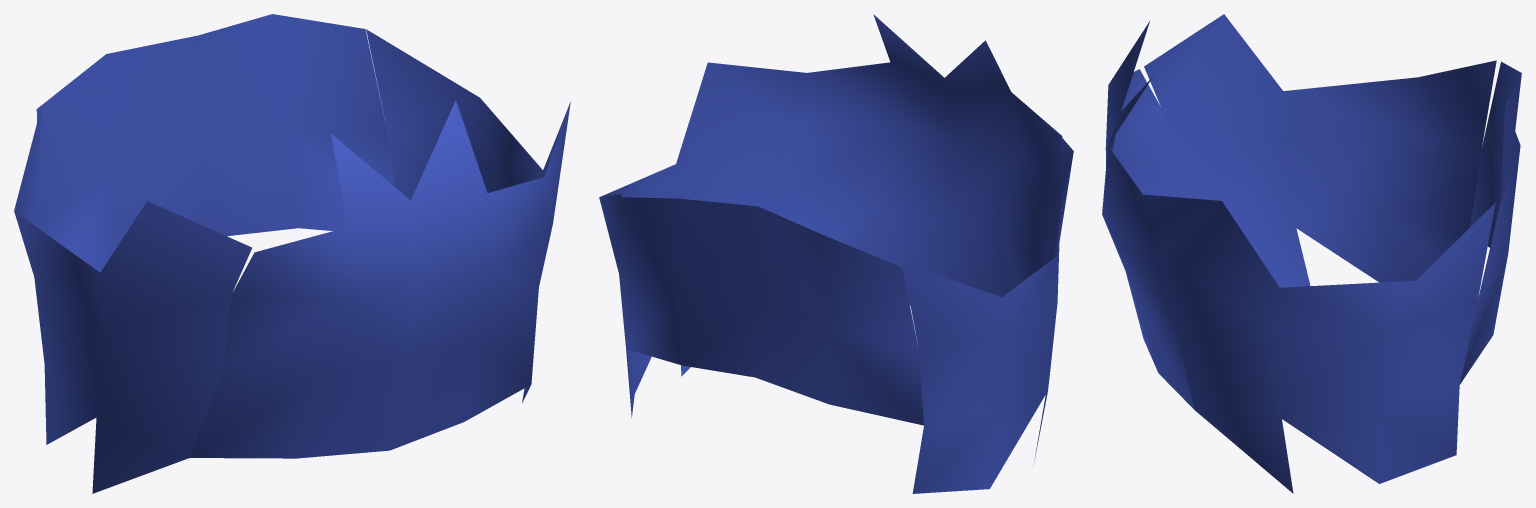
Rendered from spine1.glb.
3 views of the same model, side by side, from view 1: azimuth 30°, elevation 25°; view 2: azimuth 150°, elevation 25°; view 3: azimuth 270°, elevation 25° (orthographic). The views are drawn at different scales.
Parts seen in each view (by area): view 1: polo-blue_SPINE1; view 2: polo-blue_SPINE1; view 3: polo-blue_SPINE1.
Boxes of the visible parts, x1,y1,x2,y2 form: polo-blue_SPINE1: (14, 14, 570, 493); polo-blue_SPINE1: (599, 14, 1073, 493); polo-blue_SPINE1: (1102, 14, 1521, 493).
Size of the model in its own units: 0.3731 by 0.3036 by 0.3246.
Materials: 1 (1 with a texture image).
